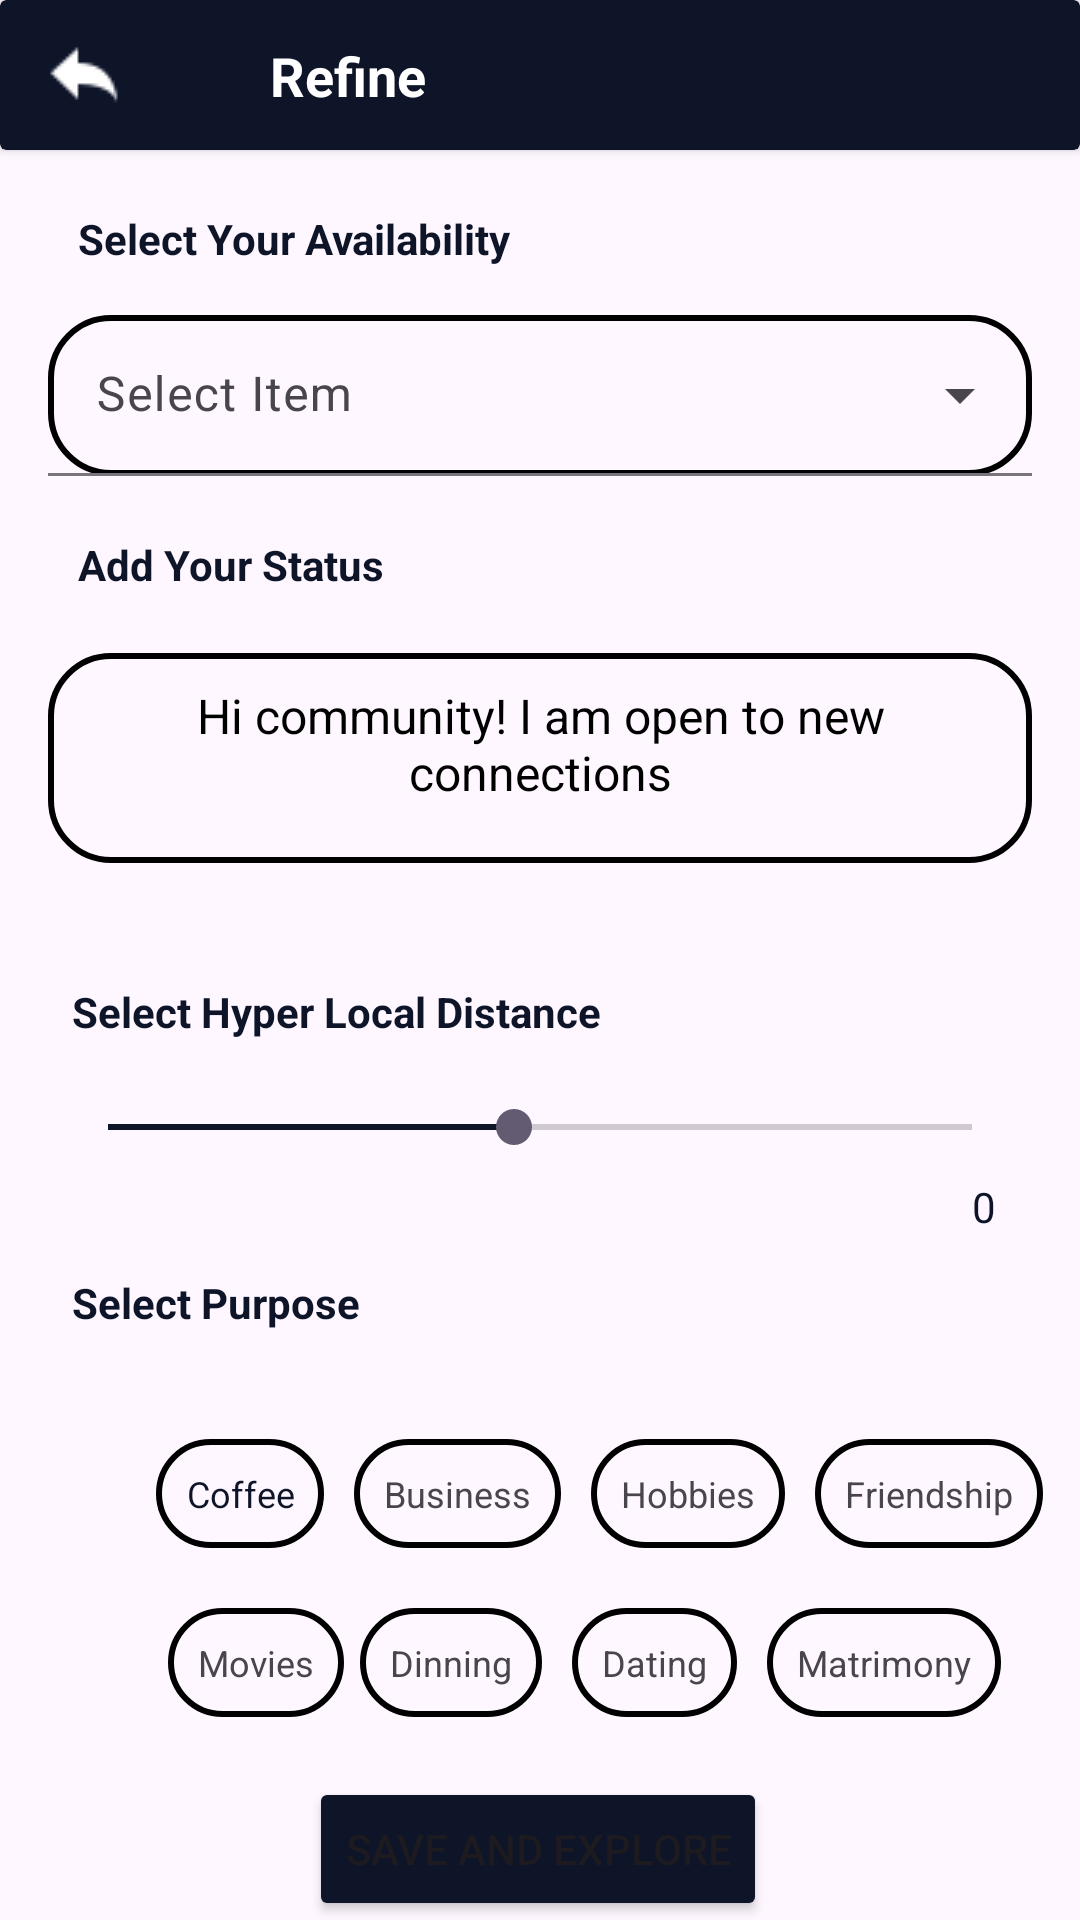

Point at icon controls on the screen. Image size 1080 x 1920, points as point (x, y).
left: point (84, 74)
